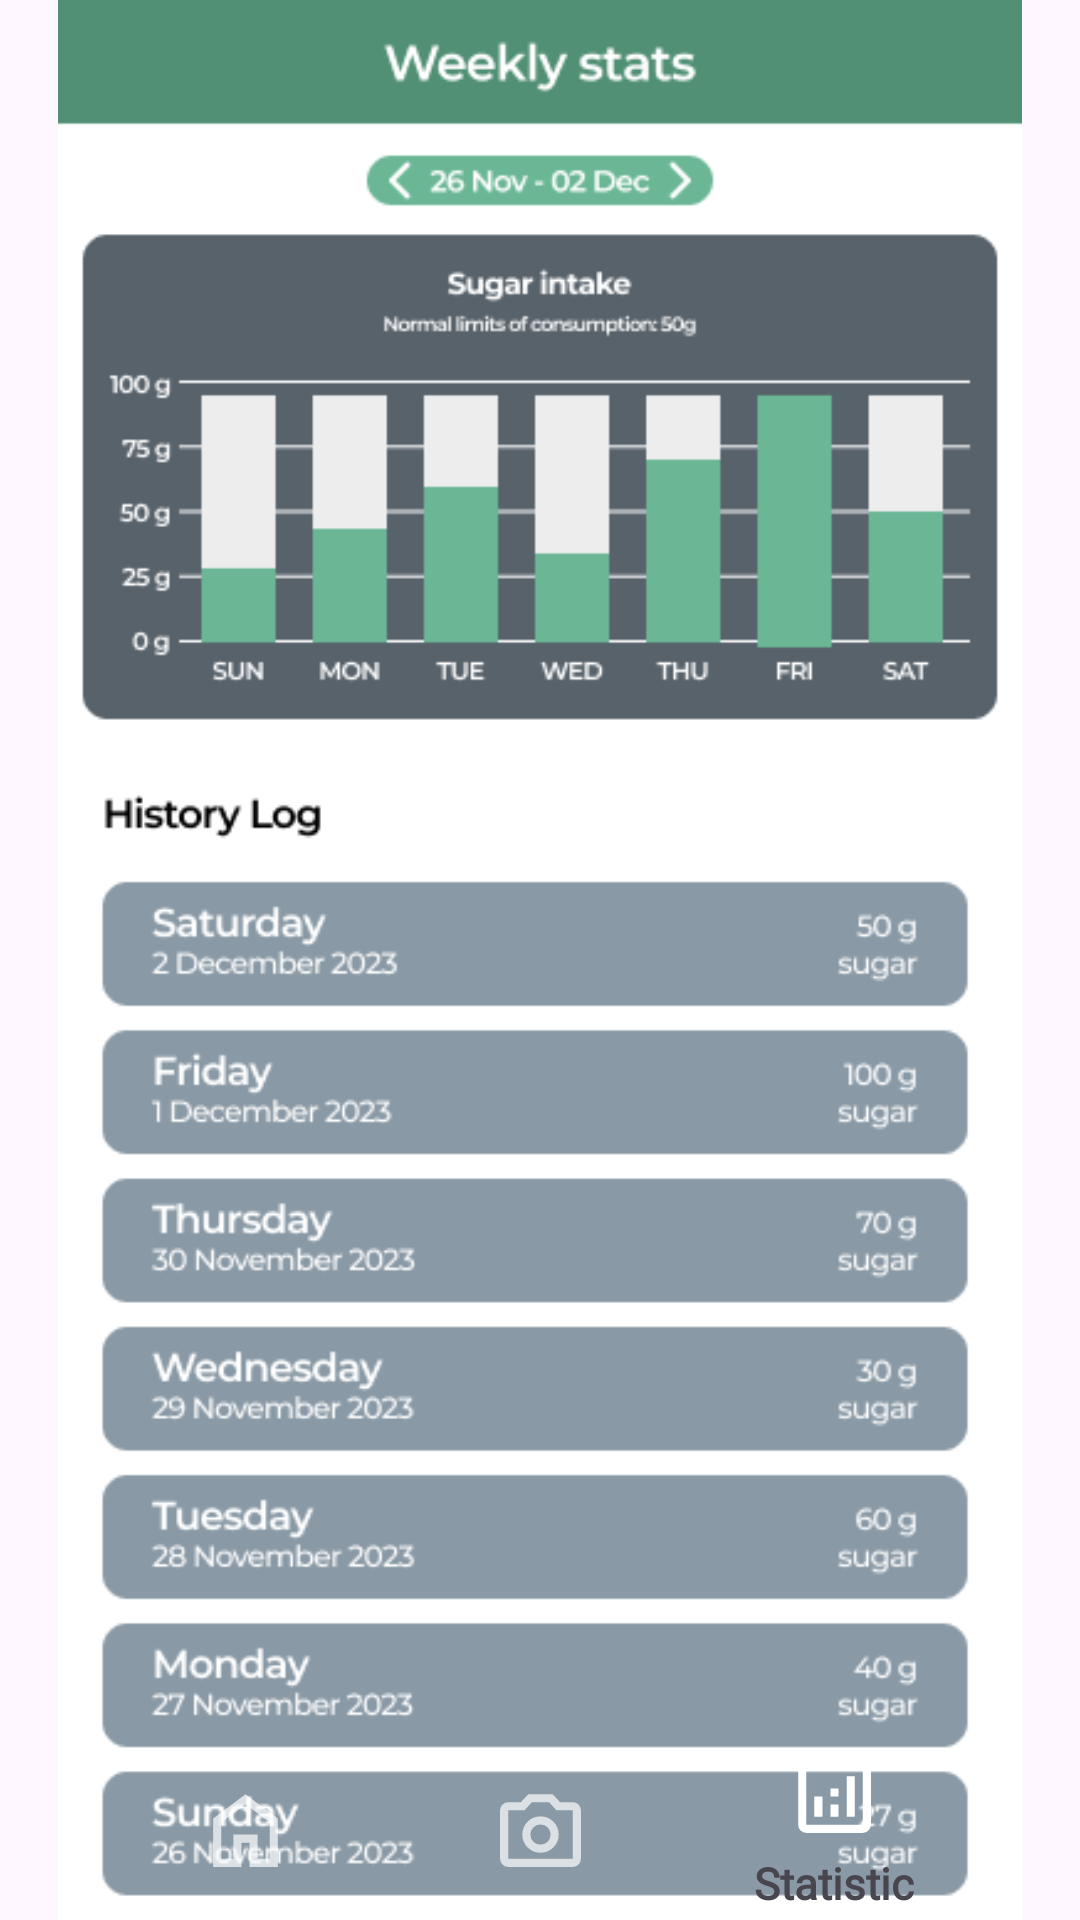

Icon click points for this 1080px×1920px phone screenshot, format (x=x, y=y):
photo camera: (x=540, y=1830)
